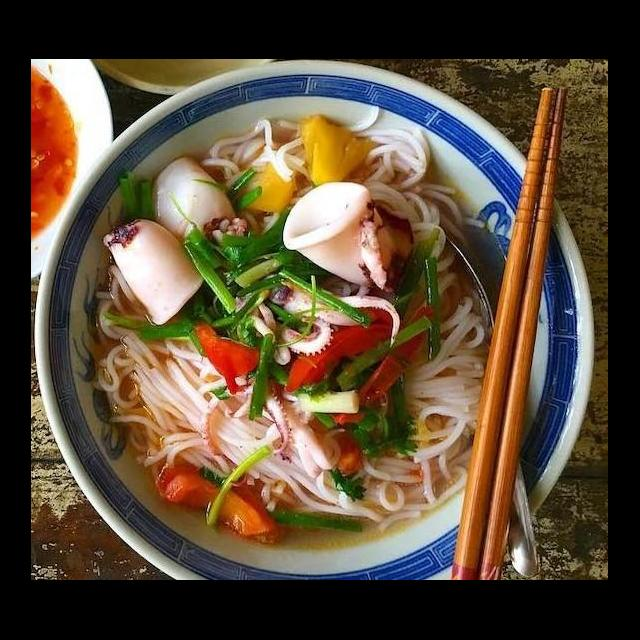bun: (84, 262, 390, 536), (364, 248, 500, 538), (338, 100, 492, 250), (193, 110, 310, 190)
muc: (196, 214, 340, 368), (192, 348, 344, 482), (276, 178, 422, 298), (98, 215, 212, 328), (144, 150, 246, 260)
